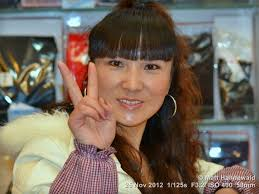peace_sign: (56, 58, 120, 159)
